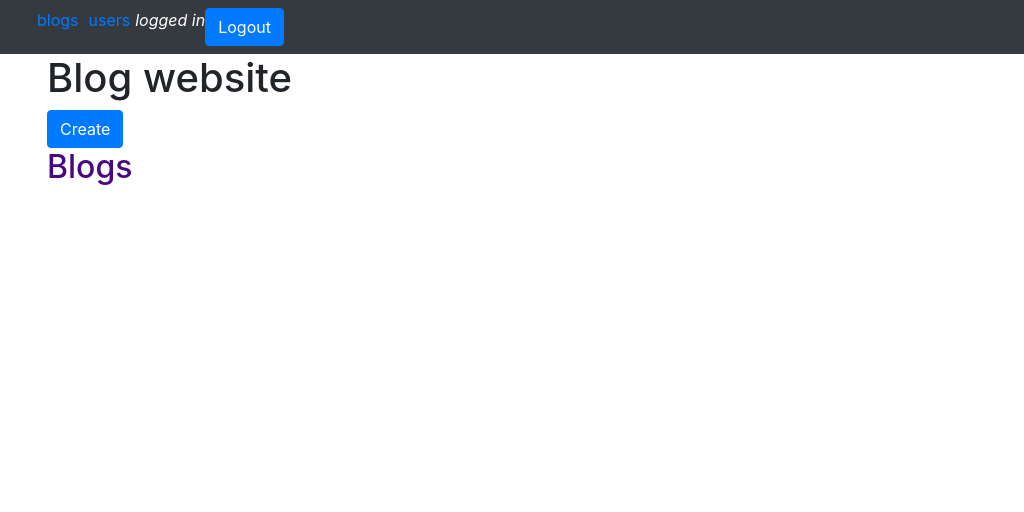
Test: Blog app › When logged in › blog creation works
Step 1. Click the button "Create" → (85, 129), box [47,110,123,148]
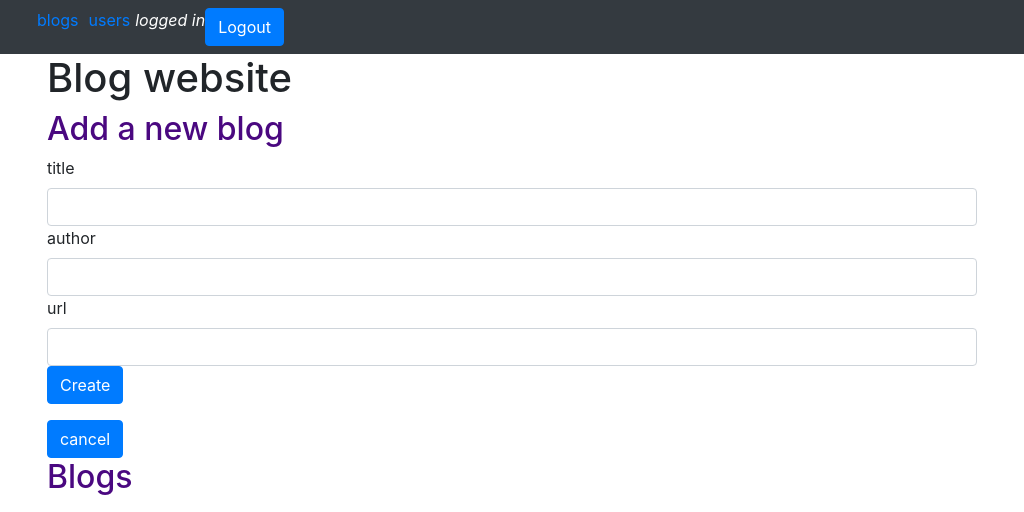
Step 2. Type "Blog creation works" into the field with id "title" → (512, 207), box [47,188,977,226]
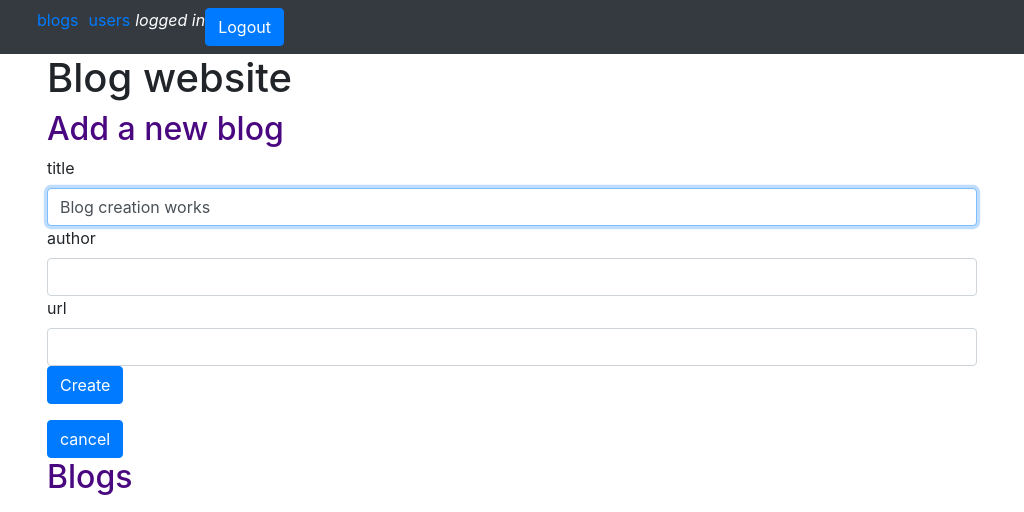
Step 3. Type "Cypress Hill" into the field with id "author" → (512, 277), box [47,258,977,296]
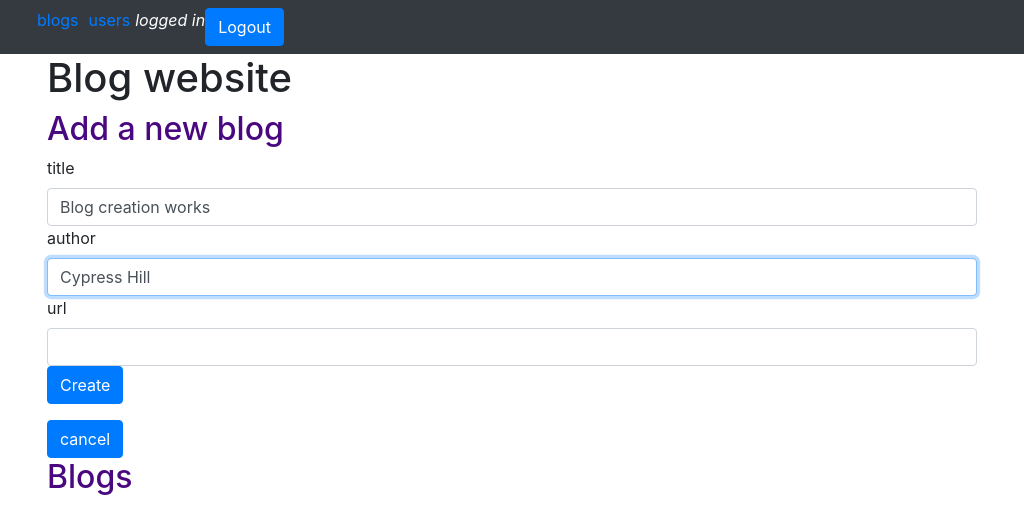
Step 4. Type "www.working.hard" into the field with id "url" → (512, 347), box [47,328,977,366]
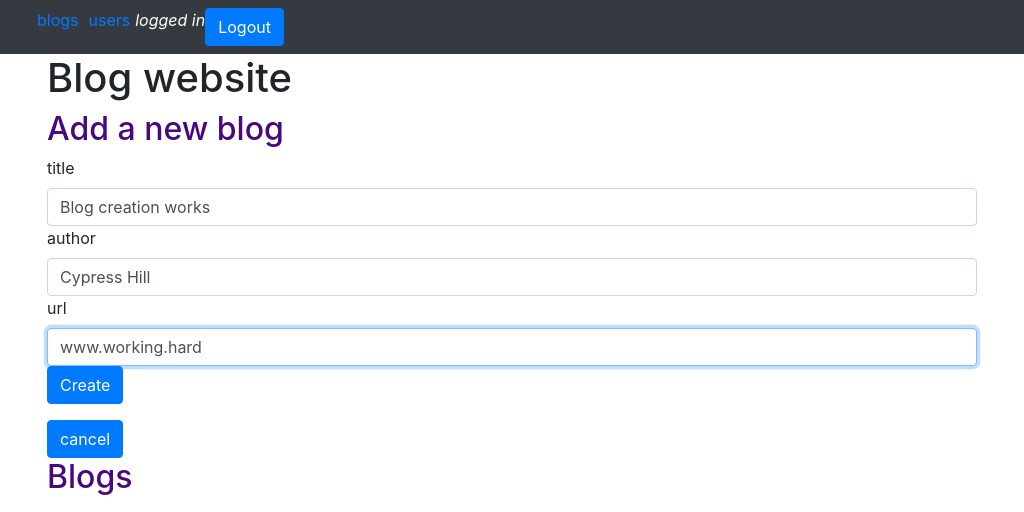
Step 5. Click the button with id "create-blog-btn" → (85, 385), box [47,366,123,404]
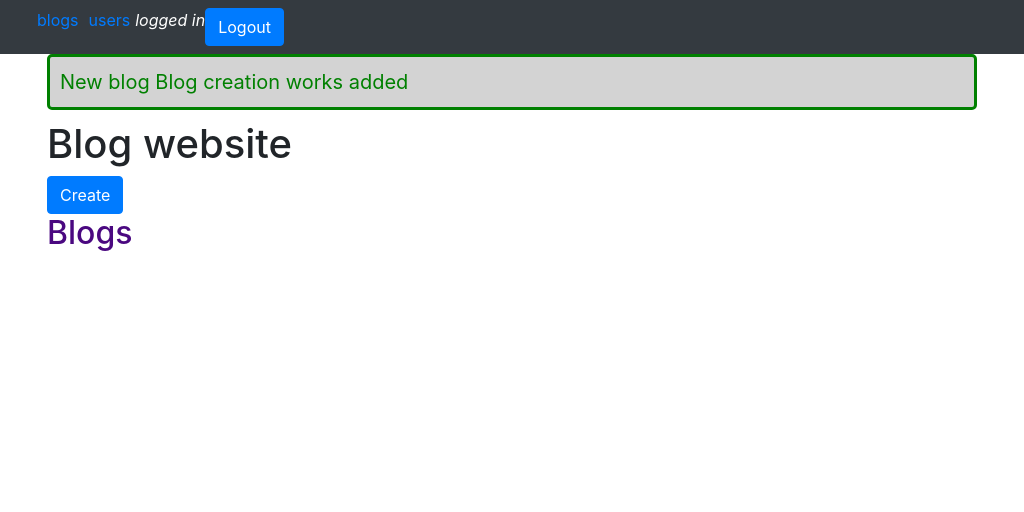
Expected: the text with class "notification" reads "New blog Blog creation works added", [60,70,408,94]
